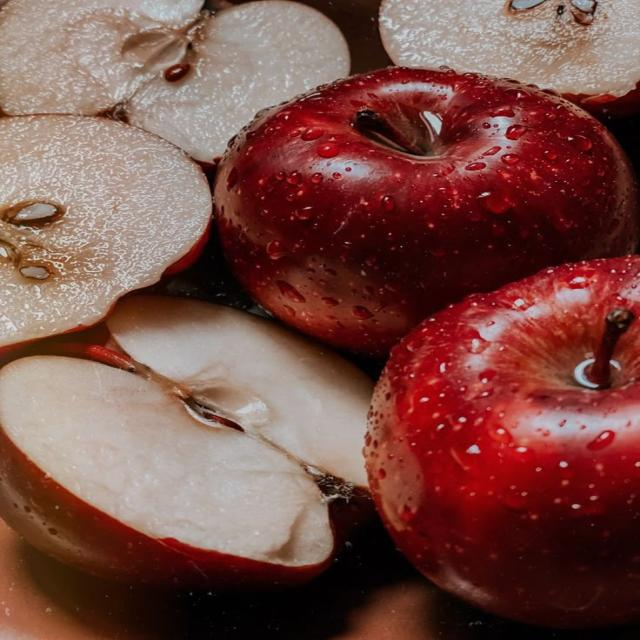apple: (214, 68, 638, 354), (0, 296, 373, 588), (366, 258, 639, 627), (0, 0, 349, 163), (0, 115, 211, 348), (380, 0, 639, 115)
